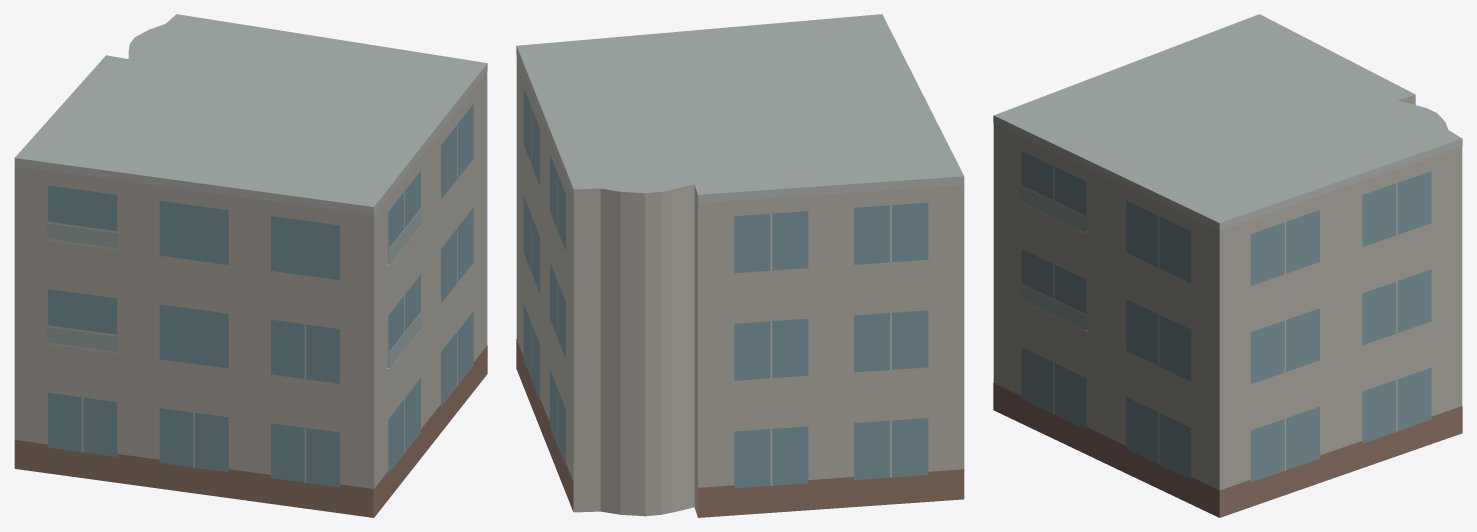
File: survey-upis-32878912.glb
3 renders of one model, left to right at view 1: azimuth 30°, elevation 25°; view 2: azimuth 150°, elevation 25°; view 3: azimuth 270°, elevation 25°, orthographic. The views are drawn at different scales.
Parts seen in each view (by area): view 1: survey-upis-32878912.tmp; view 2: survey-upis-32878912.tmp; view 3: survey-upis-32878912.tmp.
Part boxes in pixels (x1,y1,x2,y2): survey-upis-32878912.tmp: (14,14,487,517); survey-upis-32878912.tmp: (516,14,964,517); survey-upis-32878912.tmp: (993,14,1462,517).
Size of the model in its own units: 13.93 by 9.15 by 13.2.
